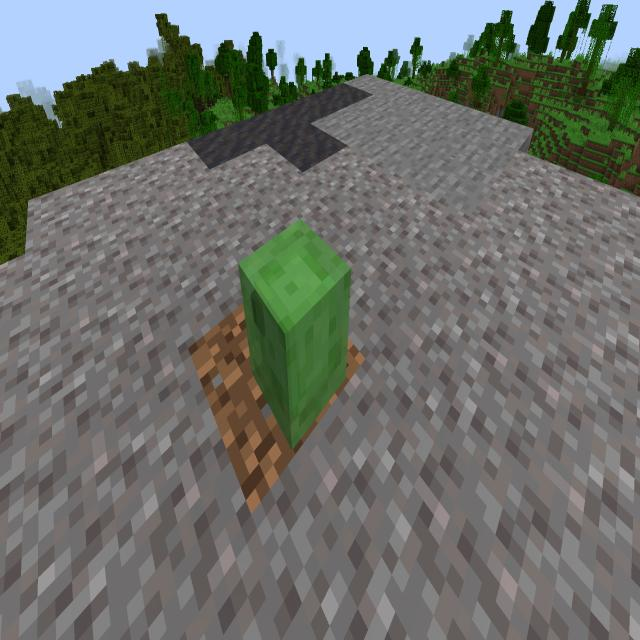Slime: (230, 200, 361, 473)
